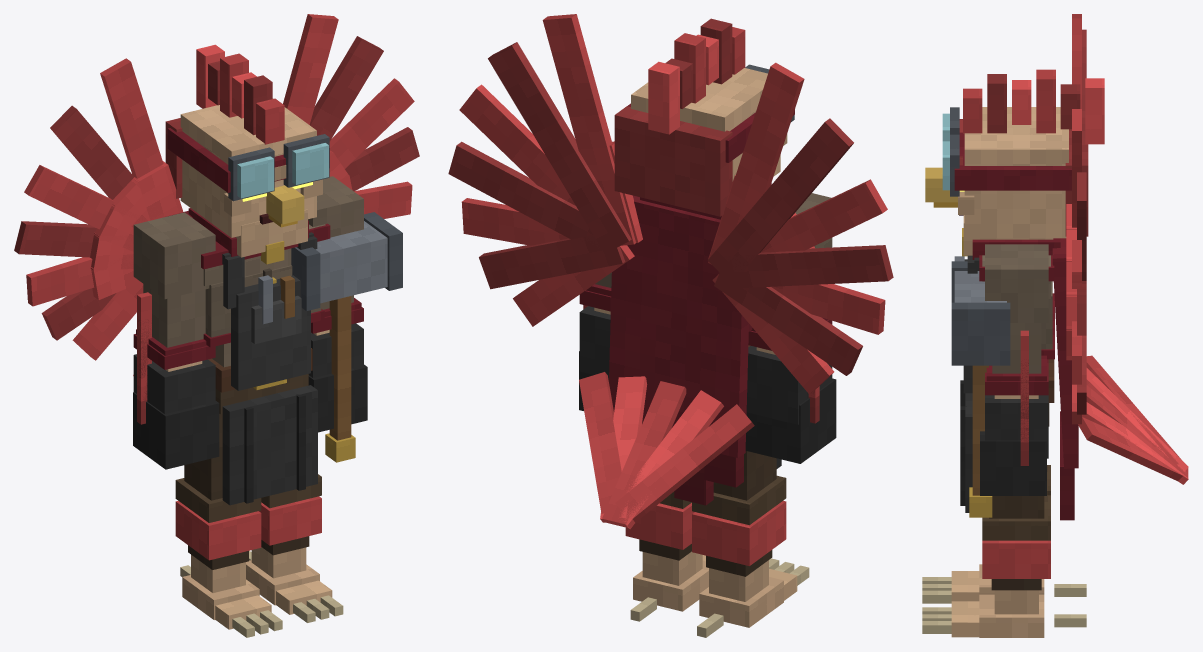
The model's file is harpy_forgeron_v2.glb.
The picture shows the model from 3 angles, left to right: view 1: azimuth 30°, elevation 25°; view 2: azimuth 150°, elevation 25°; view 3: azimuth 270°, elevation 25°; orthographic projection. The views are drawn at different scales.
Parts seen in each view (by area): view 1: Torso, Head, ArmR, LegR, HandL, LegL, ArmL, Root; view 2: Torso, Head, LegR, ArmR, LegL, ArmL, Root; view 3: Head, Torso, ArmL, LegL, HandL, Root, LegR.
Part boxes in pixels (x1,y1,x2,y2): Torso: [14, 14, 419, 505]; Head: [165, 44, 329, 257]; ArmR: [133, 212, 219, 469]; LegR: [175, 414, 271, 629]; HandL: [291, 212, 402, 462]; LegL: [246, 474, 332, 614]; ArmL: [308, 176, 367, 432]; Root: [180, 550, 343, 637]; Torso: [448, 14, 893, 529]; Head: [614, 18, 794, 216]; LegR: [692, 451, 797, 627]; ArmR: [745, 193, 836, 463]; LegL: [625, 491, 708, 611]; ArmL: [579, 272, 611, 410]; Root: [630, 558, 809, 637]; Head: [925, 69, 1104, 255]; Torso: [954, 14, 1188, 520]; ArmL: [980, 244, 1048, 495]; LegL: [951, 495, 1050, 637]; HandL: [951, 261, 1010, 517]; Root: [922, 577, 1086, 633]; LegR: [951, 465, 1050, 601].
Size of the model in its own units: 1.46 by 1.85 by 0.8178.
41 materials, 41 textured.
